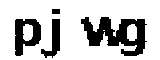g: (120, 17, 149, 60)
j: (41, 4, 70, 60)
p: (12, 18, 42, 59)
w: (80, 14, 123, 49)
